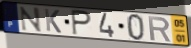0: (126, 13, 146, 42)
4: (99, 12, 116, 39)
K: (43, 8, 63, 35)
N: (18, 6, 43, 33)
P: (71, 8, 93, 37)
R: (147, 16, 173, 43)
